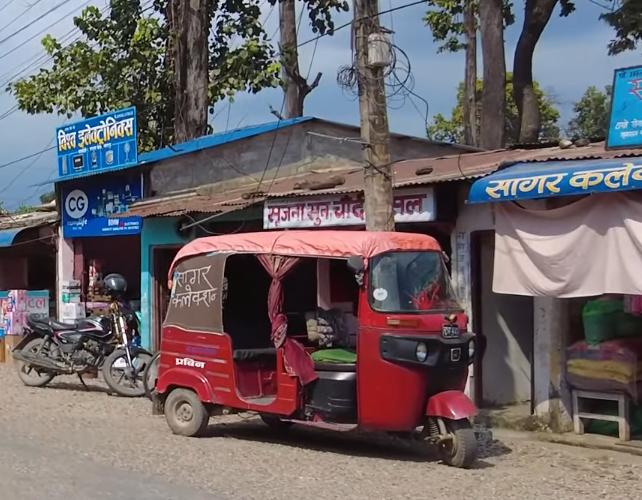auto_rickshaw: (158, 226, 489, 469)
bike: (9, 291, 160, 403)
